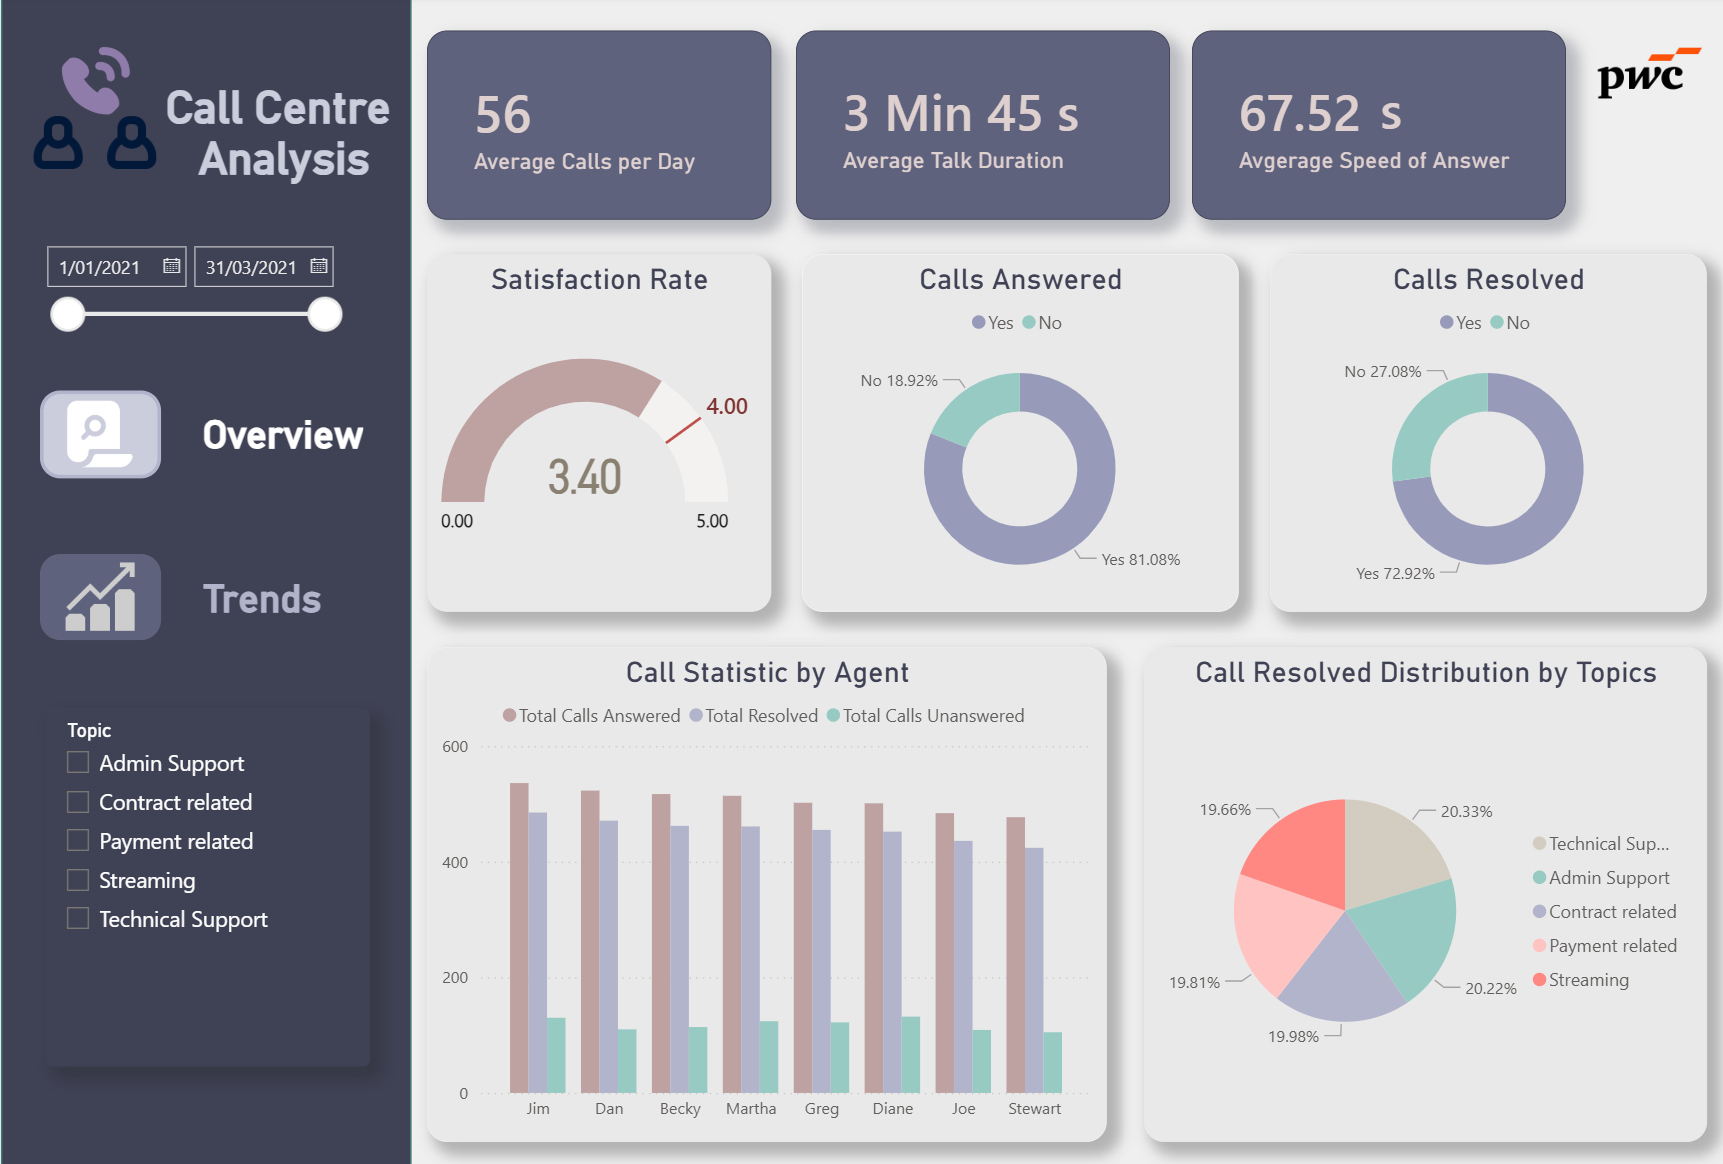

What the dashboard file says about the page in this screenshot:
{"tool":"powerbi","page":{"name":"Overview","canvas":[1280,875],"ordinal":1},"visuals":[{"type":"shape","box":[0,0,305,874.8],"z":0},{"type":"image","box":[29.1,292.8,90,65],"z":1000},{"type":"image","box":[28.9,415.2,89.7,64.3],"z":2000},{"type":"actionButton","box":[145.5,306,201.9,40.4],"z":3000},{"type":"actionButton","box":[145.5,427.2,201.9,40.4],"z":4000},{"type":"slicer","fields":{"Values":["Call Center Dataset.Date"]},"box":[20.9,176.4,240.7,98.7],"z":5000},{"type":"donutChart","title":"Calls Answered","fields":{"Category":["Call Center Dataset.Answered Display"],"Y":["MeasuresTable.Total Calls"]},"box":[595.9,191.4,324.5,266.2],"z":6000},{"type":"donutChart","title":"Calls Resolved","fields":{"Category":["Call Center Dataset.Resolved Display"],"Y":["MeasuresTable.Total Calls"]},"box":[943.6,191.4,324.5,266.2],"z":7000},{"type":"pieChart","title":"Call Resolved Distribution by Topics","fields":{"Category":["Call Center Dataset.Topic"],"Y":["MeasuresTable.% Answered Calls Resolved"]},"box":[849.5,484,418.6,368],"z":8000},{"type":"clusteredColumnChart","title":"Call Statistic by Agent","fields":{"Category":["Call Center Dataset.Agent"],"Y":["MeasuresTable.Total Calls Answered","MeasuresTable.Total Resolved","MeasuresTable.Total Calls Unanswered"]},"box":[317,484.5,505.4,367.9],"z":9000},{"type":"gauge","title":"Satisfaction Rate","fields":{"Y":["MeasuresTable.Average Satisfaction Rate"]},"box":[317,191.4,255.7,266.2],"z":10000},{"type":"slicer","fields":{"Values":["dim_call.Topic"]},"box":[32.9,529.3,240.7,266.2],"z":11000},{"type":"image","box":[1182.8,0,85.2,115.1],"z":12000},{"type":"cardVisual","fields":{"Data":["MeasuresTable.Calls per day on average"]},"box":[317,25.4,255.7,140.6],"z":13000},{"type":"cardVisual","fields":{"Data":["MeasuresTable.Average Talk Duration"]},"box":[590.7,25.4,278.1,140.6],"z":14000},{"type":"cardVisual","fields":{"Data":["MeasuresTable.Avg Speed of Answer"]},"box":[885.2,25.4,278.1,140.6],"z":15000},{"type":"image","box":[20.9,12,97.2,142.1],"z":16000},{"type":"textbox","box":[59.8,58.3,300.6,110.7],"z":17000},{"type":"textbox","box":[1010.8,53.8,95.7,100.2],"z":18000}]}

Visuals, with their boxes in screenshot pixels (x1, y1, x2, y2), scaled from the page's 1280x875 canvas onto the 1723x1164 screenshot:
shape: (0,0,411,1163)
image: (39,390,160,476)
image: (39,552,160,638)
actionButton: (196,407,468,461)
actionButton: (196,568,468,622)
slicer - Call Center Dataset.Date: (28,235,352,366)
"Calls Answered" donutChart: (802,255,1239,609)
"Calls Resolved" donutChart: (1270,255,1707,609)
"Call Resolved Distribution by Topics" pieChart: (1144,644,1707,1133)
"Call Statistic by Agent" clusteredColumnChart: (427,645,1107,1134)
"Satisfaction Rate" gauge: (427,255,771,609)
slicer - dim_call.Topic: (44,704,368,1058)
image: (1592,0,1707,153)
cardVisual - MeasuresTable.Calls per day on average: (427,34,771,221)
cardVisual - MeasuresTable.Average Talk Duration: (795,34,1169,221)
cardVisual - MeasuresTable.Avg Speed of Answer: (1192,34,1566,221)
image: (28,16,159,205)
textbox: (80,78,485,225)
textbox: (1361,72,1489,205)
